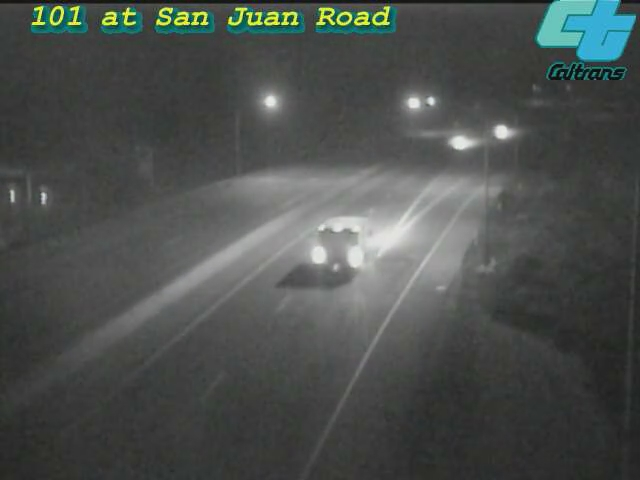vehicle: (299, 211, 379, 291), (475, 107, 525, 157), (437, 117, 487, 167)
